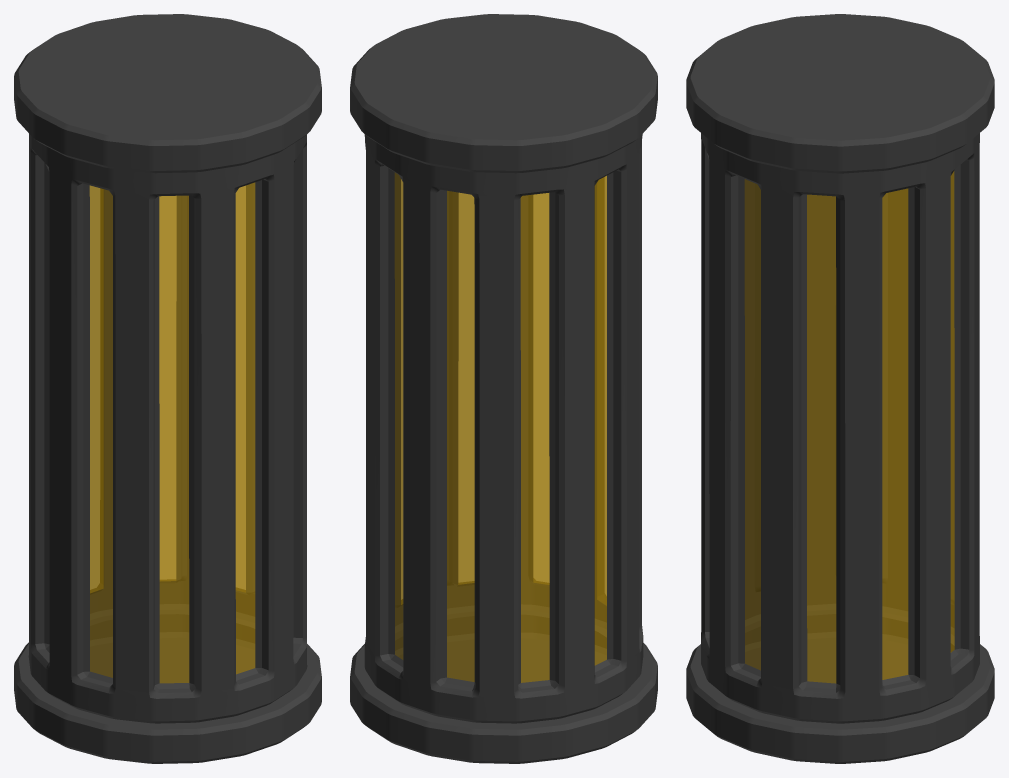
The model's file is Plasma Canister Basic Final.fbx.
The picture shows the model from 3 angles, left to right: view 1: azimuth 30°, elevation 25°; view 2: azimuth 150°, elevation 25°; view 3: azimuth 270°, elevation 25°; orthographic projection.
Parts seen in each view (by area): view 1: pCylinder1; view 2: pCylinder1; view 3: pCylinder1.
Part boxes in pixels (bbox=[...]): pCylinder1: bbox=[14, 14, 321, 763]; pCylinder1: bbox=[350, 14, 657, 763]; pCylinder1: bbox=[686, 14, 994, 763].
Bounding box in the file's own units: 0.5231 × 1.17 × 0.5231.
